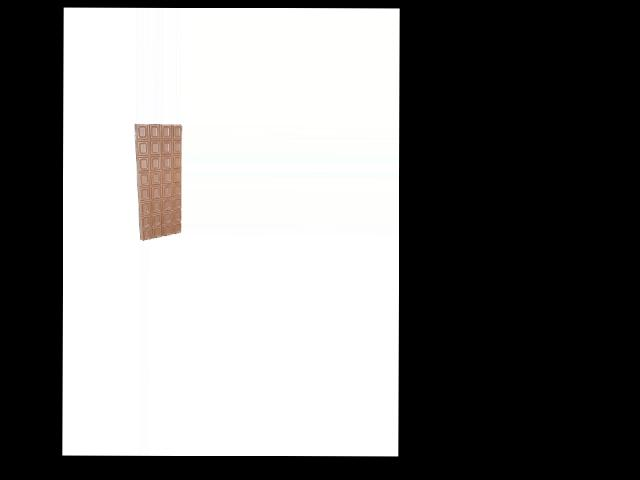chocolate: (135, 122, 182, 242)
